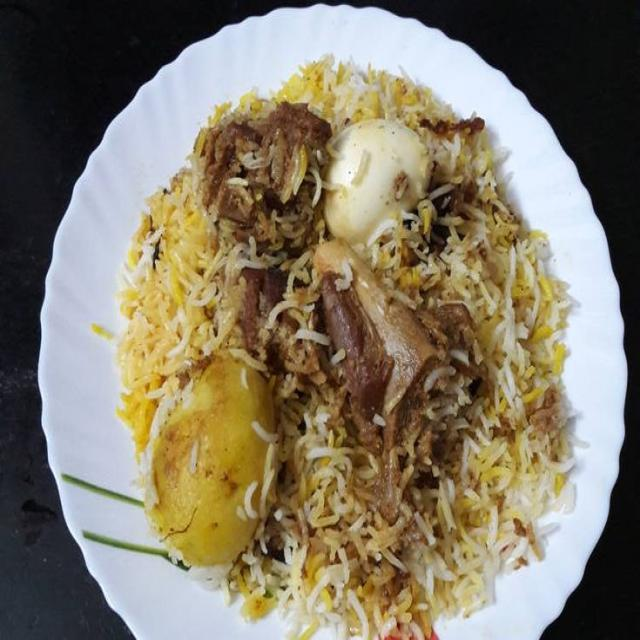Rice: (111, 53, 584, 640)
